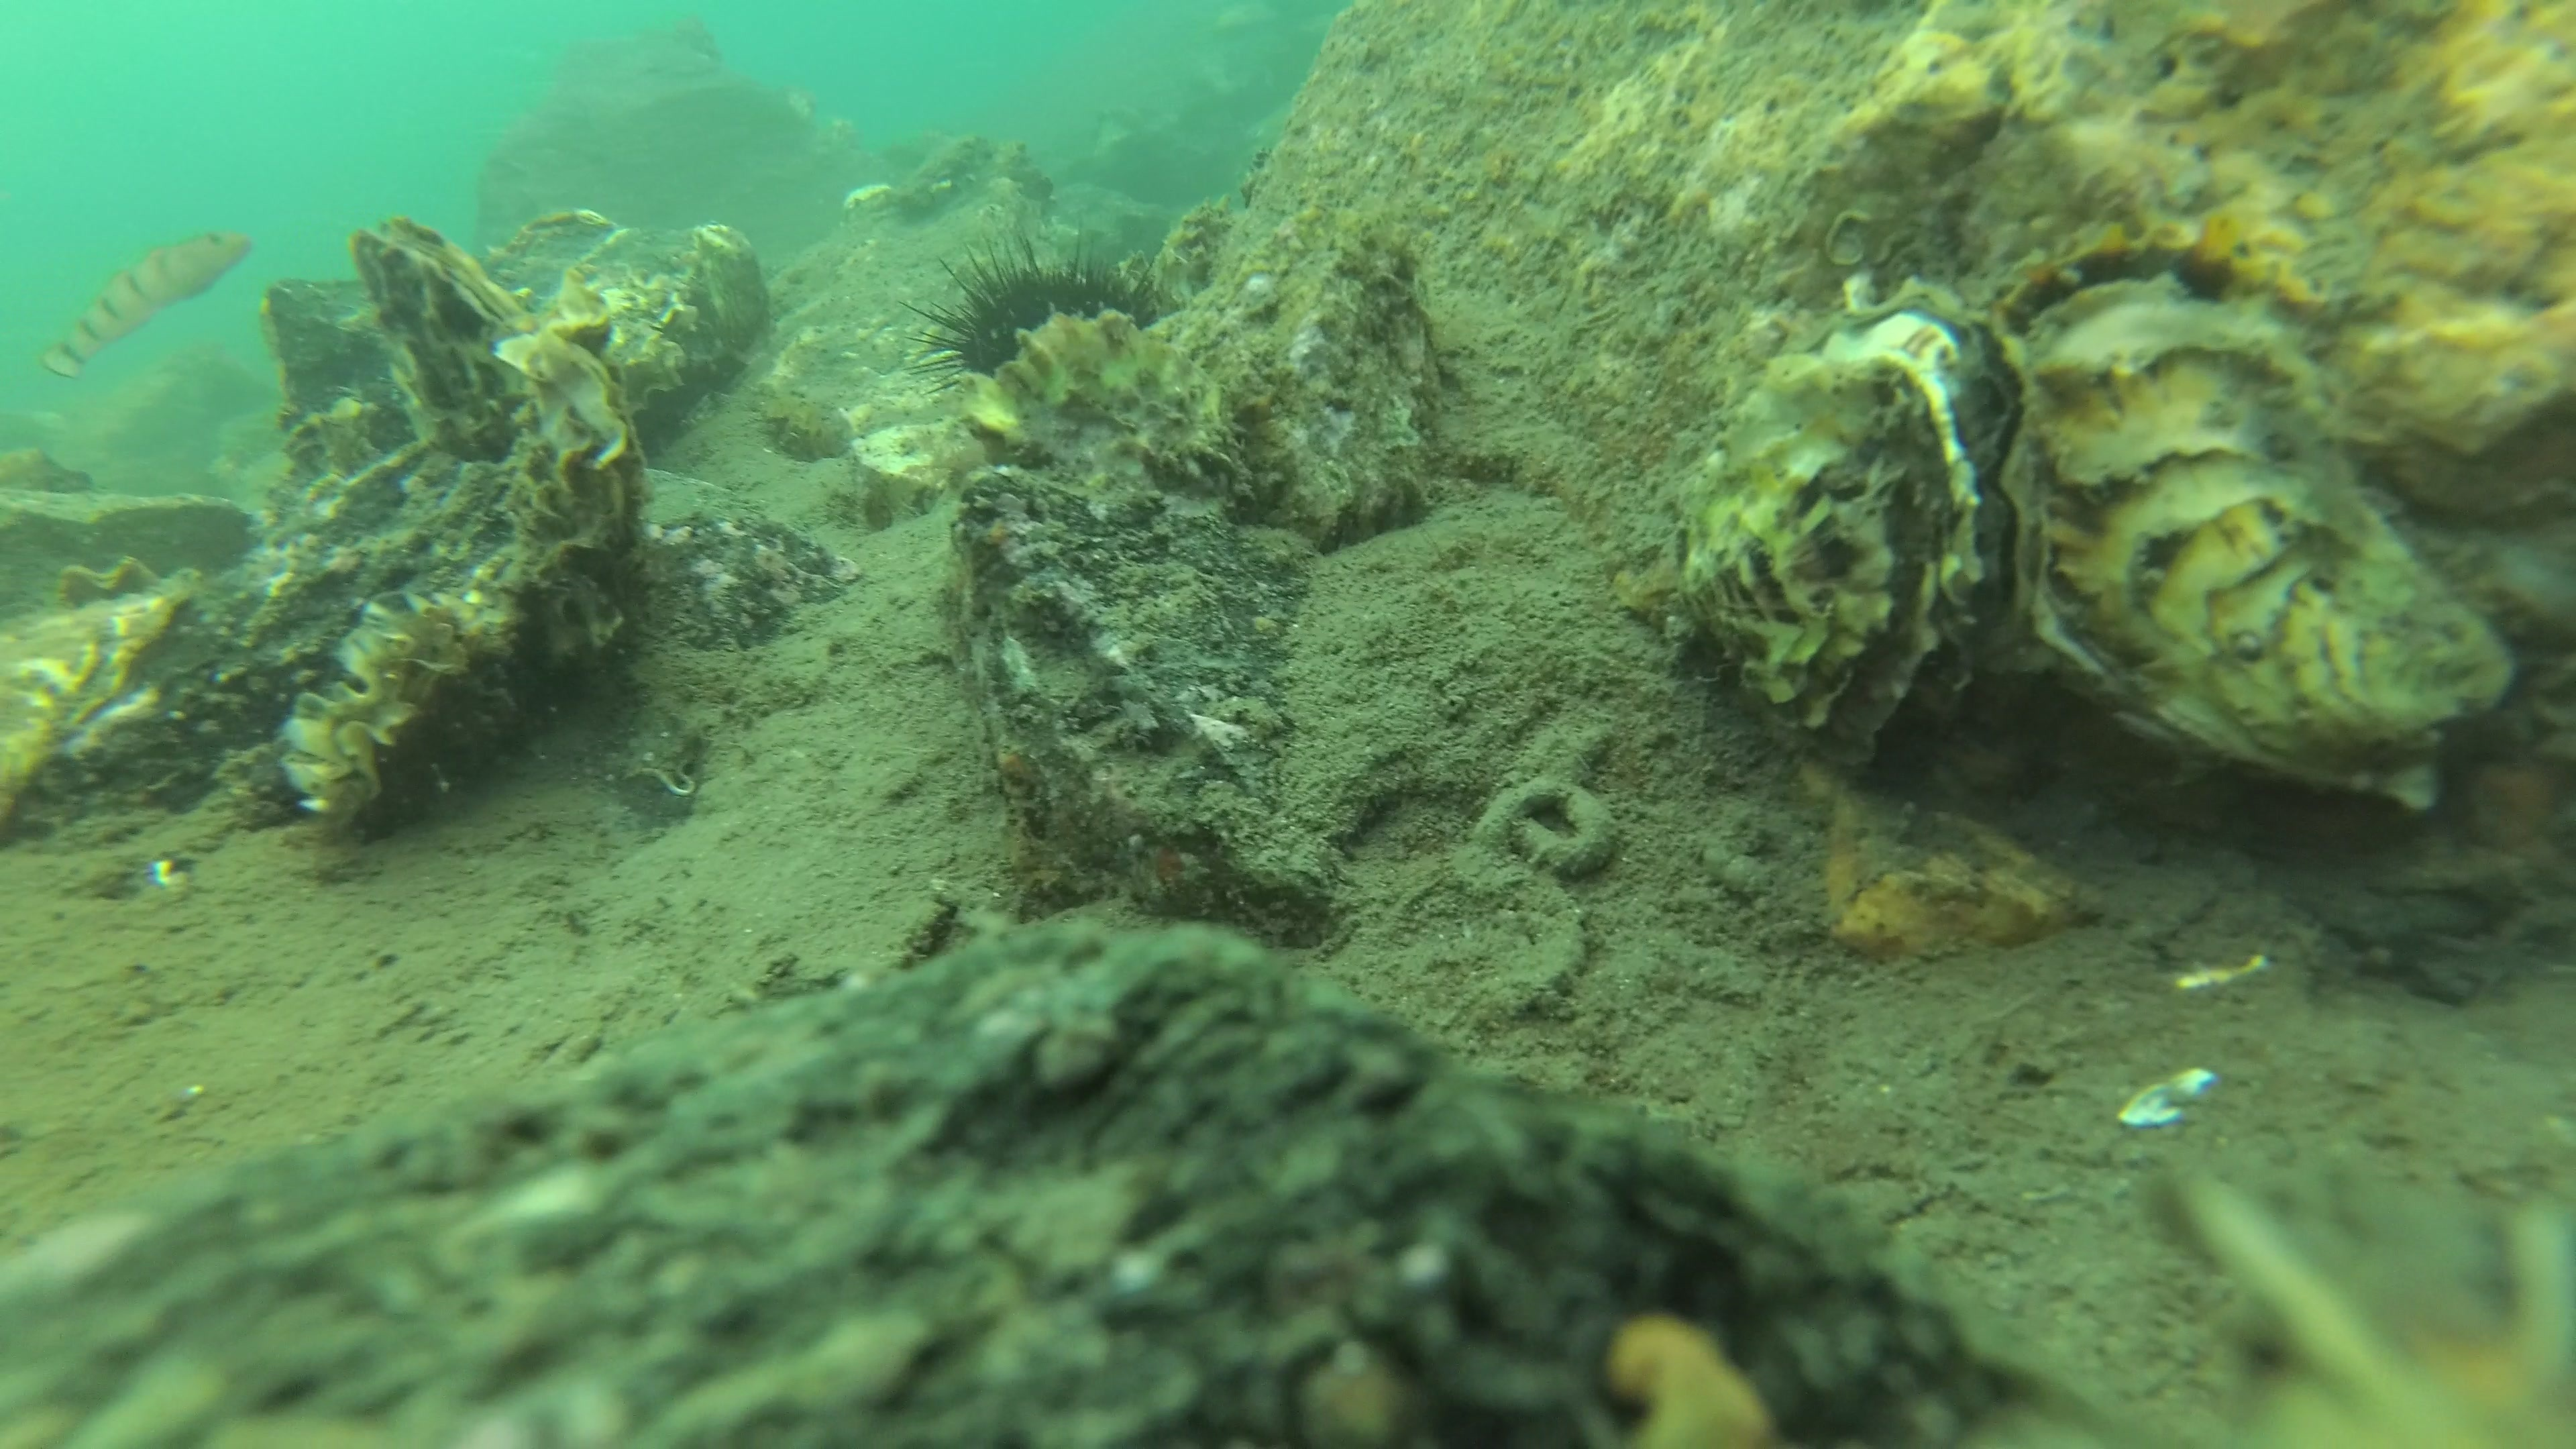echinus: (892, 223, 1164, 398)
